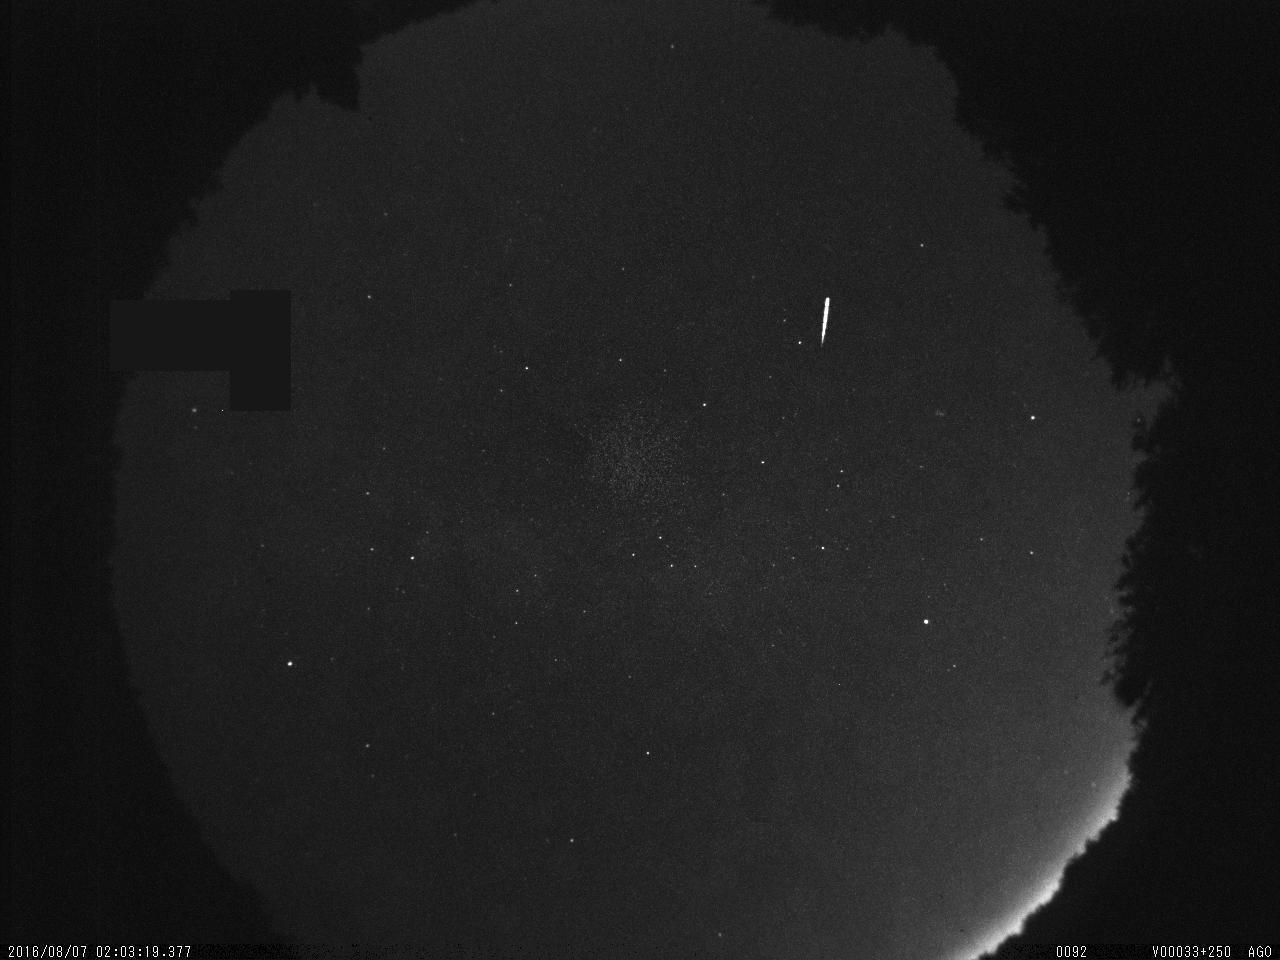Meteor: (811, 289, 837, 356)
